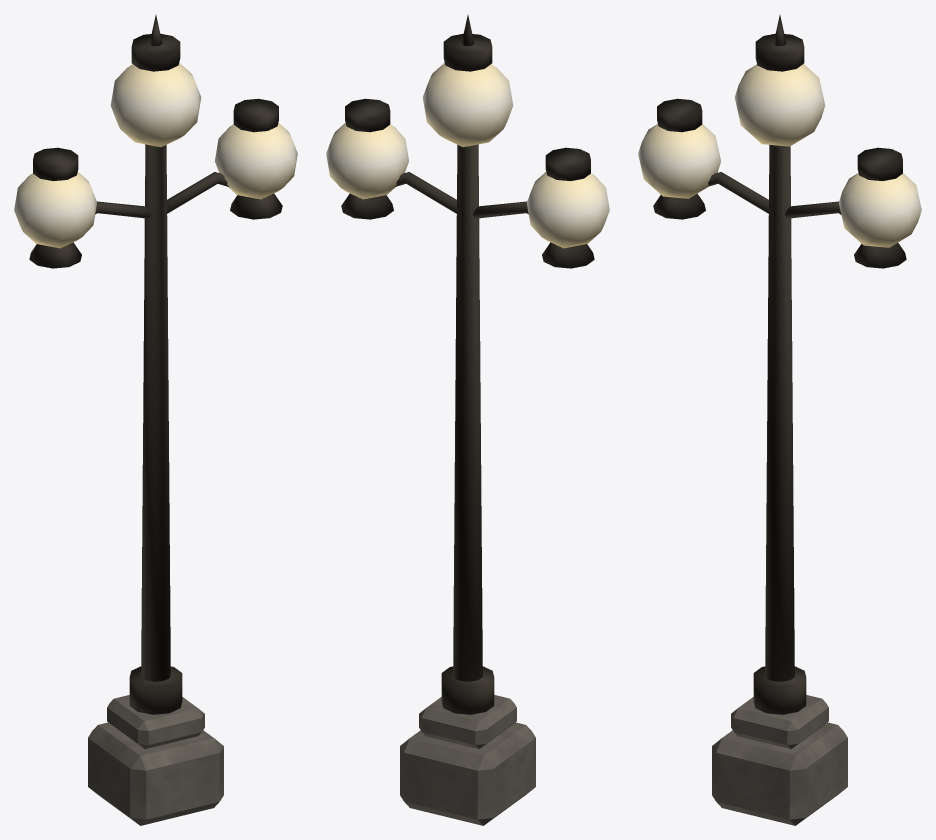
Rendered from aa_lamp.fbx.
3 renders of one model, left to right at view 1: azimuth 30°, elevation 25°; view 2: azimuth 150°, elevation 25°; view 3: azimuth 330°, elevation 25°, orthographic.
Visible parts, largest first — view 1: Asset_Lamp, Asset_Lamp_Base; view 2: Asset_Lamp, Asset_Lamp_Base; view 3: Asset_Lamp, Asset_Lamp_Base.
Part boxes in pixels (box(x1,y1,x2,y2)): Asset_Lamp: box(14, 15, 297, 714); Asset_Lamp_Base: box(88, 695, 223, 825); Asset_Lamp: box(326, 15, 609, 714); Asset_Lamp_Base: box(400, 695, 535, 825); Asset_Lamp: box(638, 15, 921, 714); Asset_Lamp_Base: box(712, 695, 847, 825).
Bounding box in the file's own units: 4.05 × 11.25 × 1.4.
Materials: 2 (2 with a texture image).
